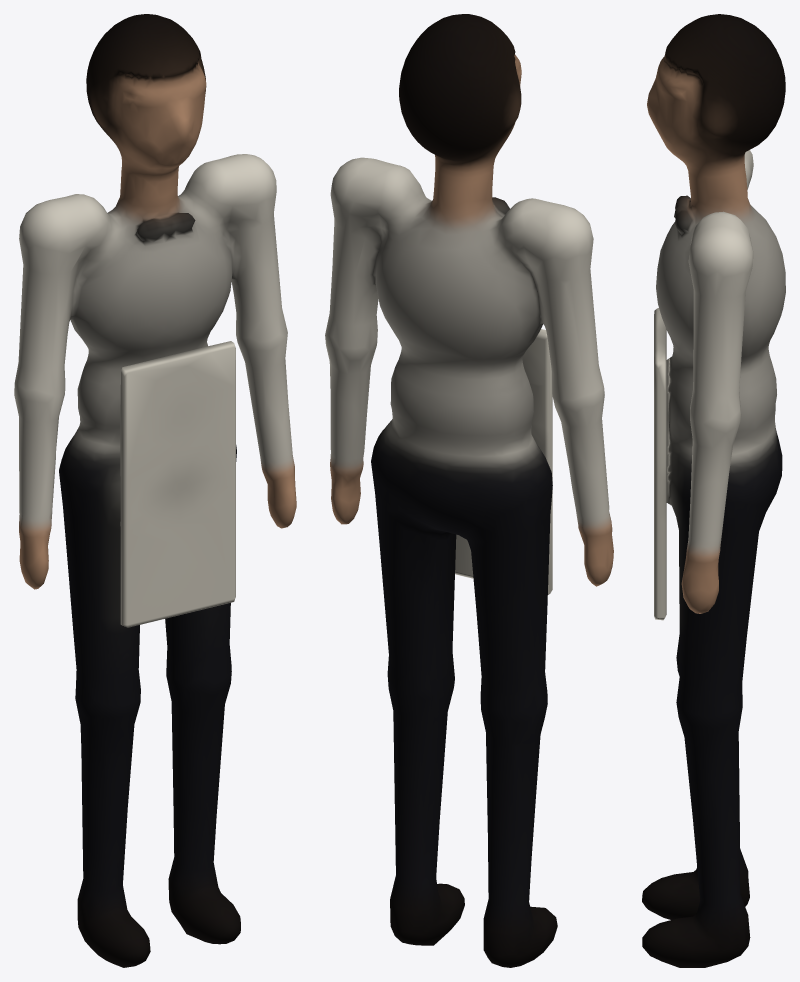
The model's file is lumiere-npc-bartender.glb.
3 renders of one model, left to right at view 1: azimuth 30°, elevation 25°; view 2: azimuth 150°, elevation 25°; view 3: azimuth 270°, elevation 25°, orthographic. The views are drawn at different scales.
Parts seen in each view (by area): view 1: lumiere-npc-bartender_LOD0; view 2: lumiere-npc-bartender_LOD0; view 3: lumiere-npc-bartender_LOD0.
Boxes of the visible parts, x1,y1,x2,y2 form: lumiere-npc-bartender_LOD0: [14, 14, 296, 967]; lumiere-npc-bartender_LOD0: [325, 14, 613, 967]; lumiere-npc-bartender_LOD0: [642, 14, 785, 967].
Size of what is drawn, in the model's own units: 0.5494 by 1.78 by 0.2514.
